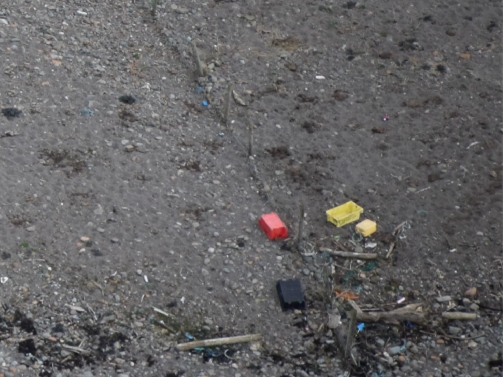scattered_barrel: (253, 197, 385, 313)
straight_bar: (169, 322, 269, 358), (306, 235, 389, 268)
